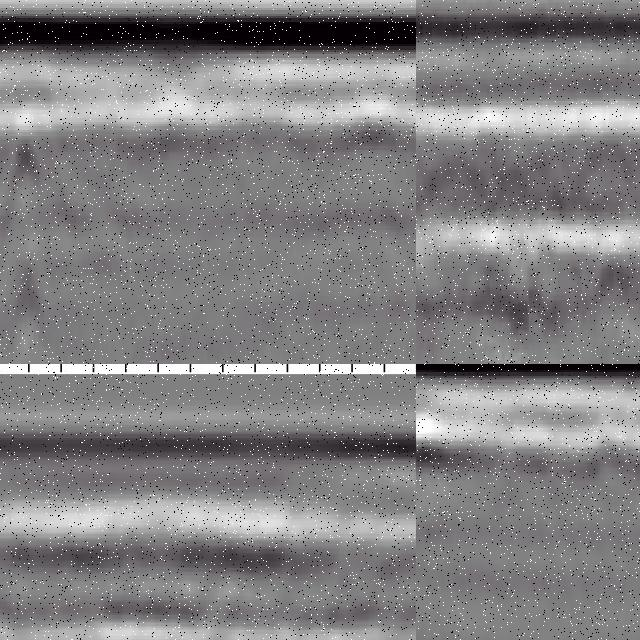crack: (8, 101, 46, 353)
